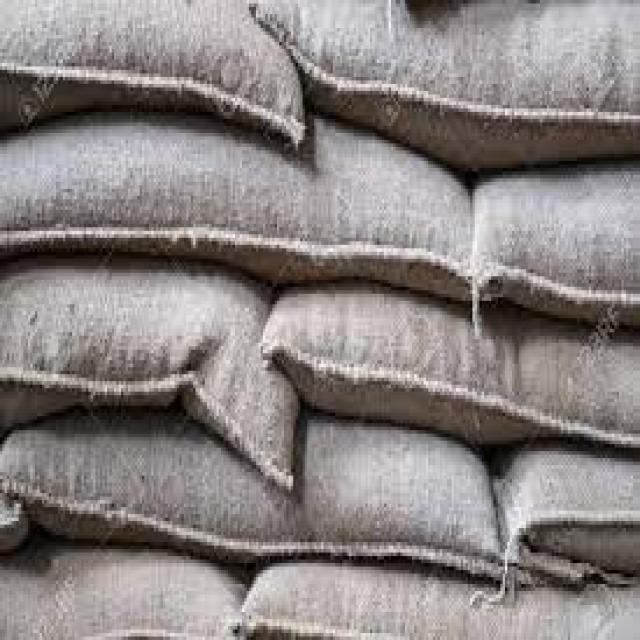sack: (0, 109, 482, 305), (0, 413, 498, 598), (0, 255, 296, 497), (260, 284, 640, 459), (253, 0, 638, 169), (0, 0, 305, 154), (466, 162, 636, 340), (501, 444, 638, 596)
